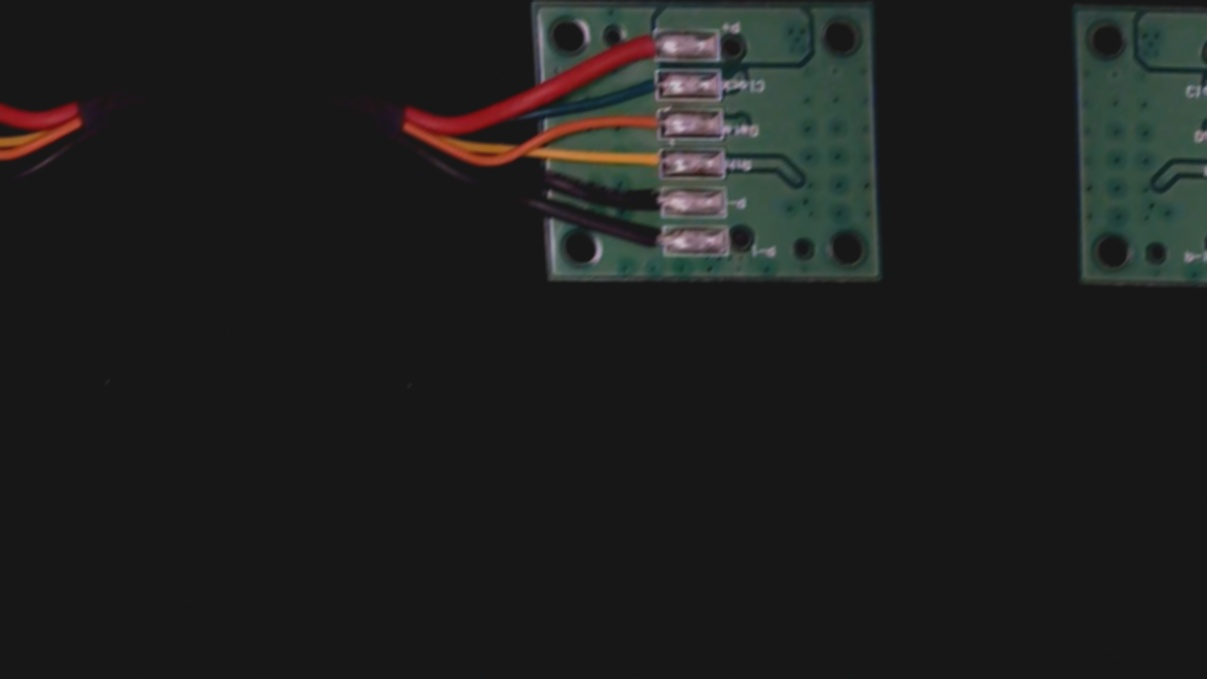Black: (604, 184, 677, 217)
Black1: (611, 223, 679, 257)
Green: (611, 70, 671, 104)
Orange: (611, 107, 675, 140)
Red: (605, 29, 672, 64)
Yellow: (608, 145, 676, 178)
